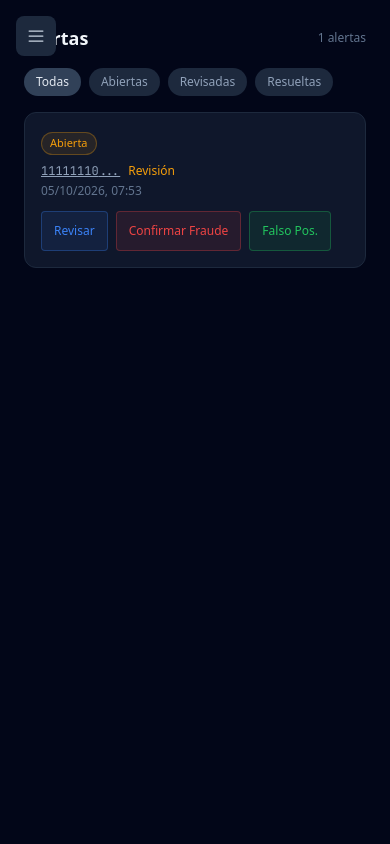
Test case: AlertsPage — confirming fraud › opens the shared dialog, asking for a reason, and names the verdict
Click the button "Confirmar Fraude".
click(178, 230)  # box [116,210,241,250]
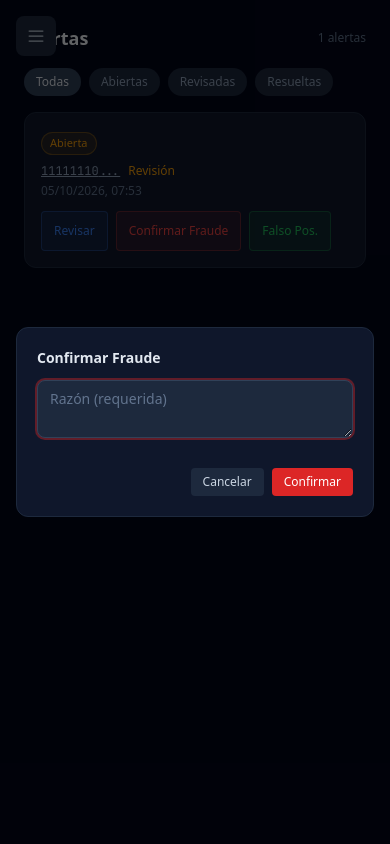
Result: the dialog shows "Confirmar Fraude" at [37,348,161,367]
Result: the text box with placeholder "Razón (requerida)" is shown at [37,380,353,438]
